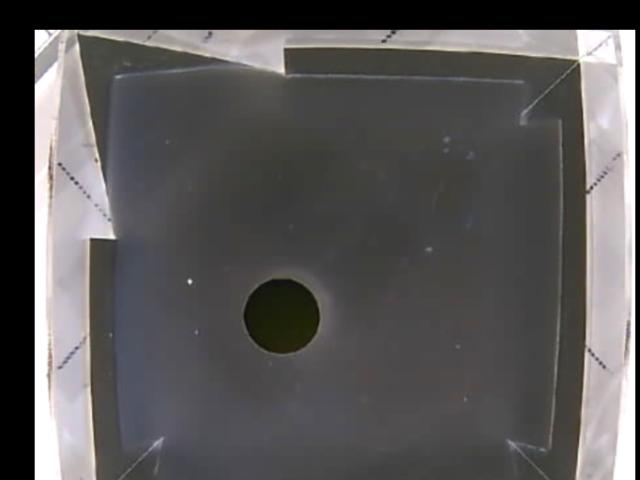Bottle: (242, 277, 321, 356)
